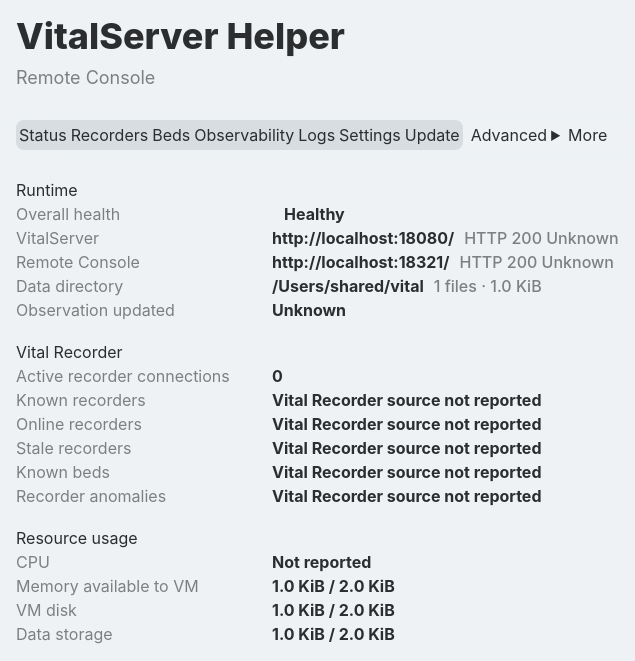
it: App › renders the console shell, routes, and overflow menu
The width and height of the screenshot is (635, 661).
Expected: the heading "VitalServer Helper" is shown, [16, 16, 345, 56]
Expected: the text "Overall health" is shown, [16, 204, 120, 224]
Step 1. Click the heading "More" → x=588, y=135, box [568, 125, 607, 145]
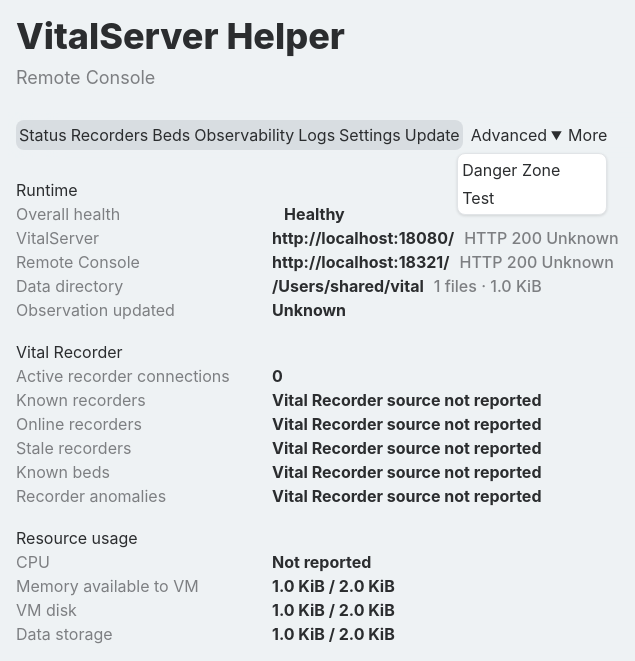
Expected: the link "Test" is shown, [462, 188, 494, 208]
Expected: the link "Danger Zone" is shown, [462, 160, 560, 180]
